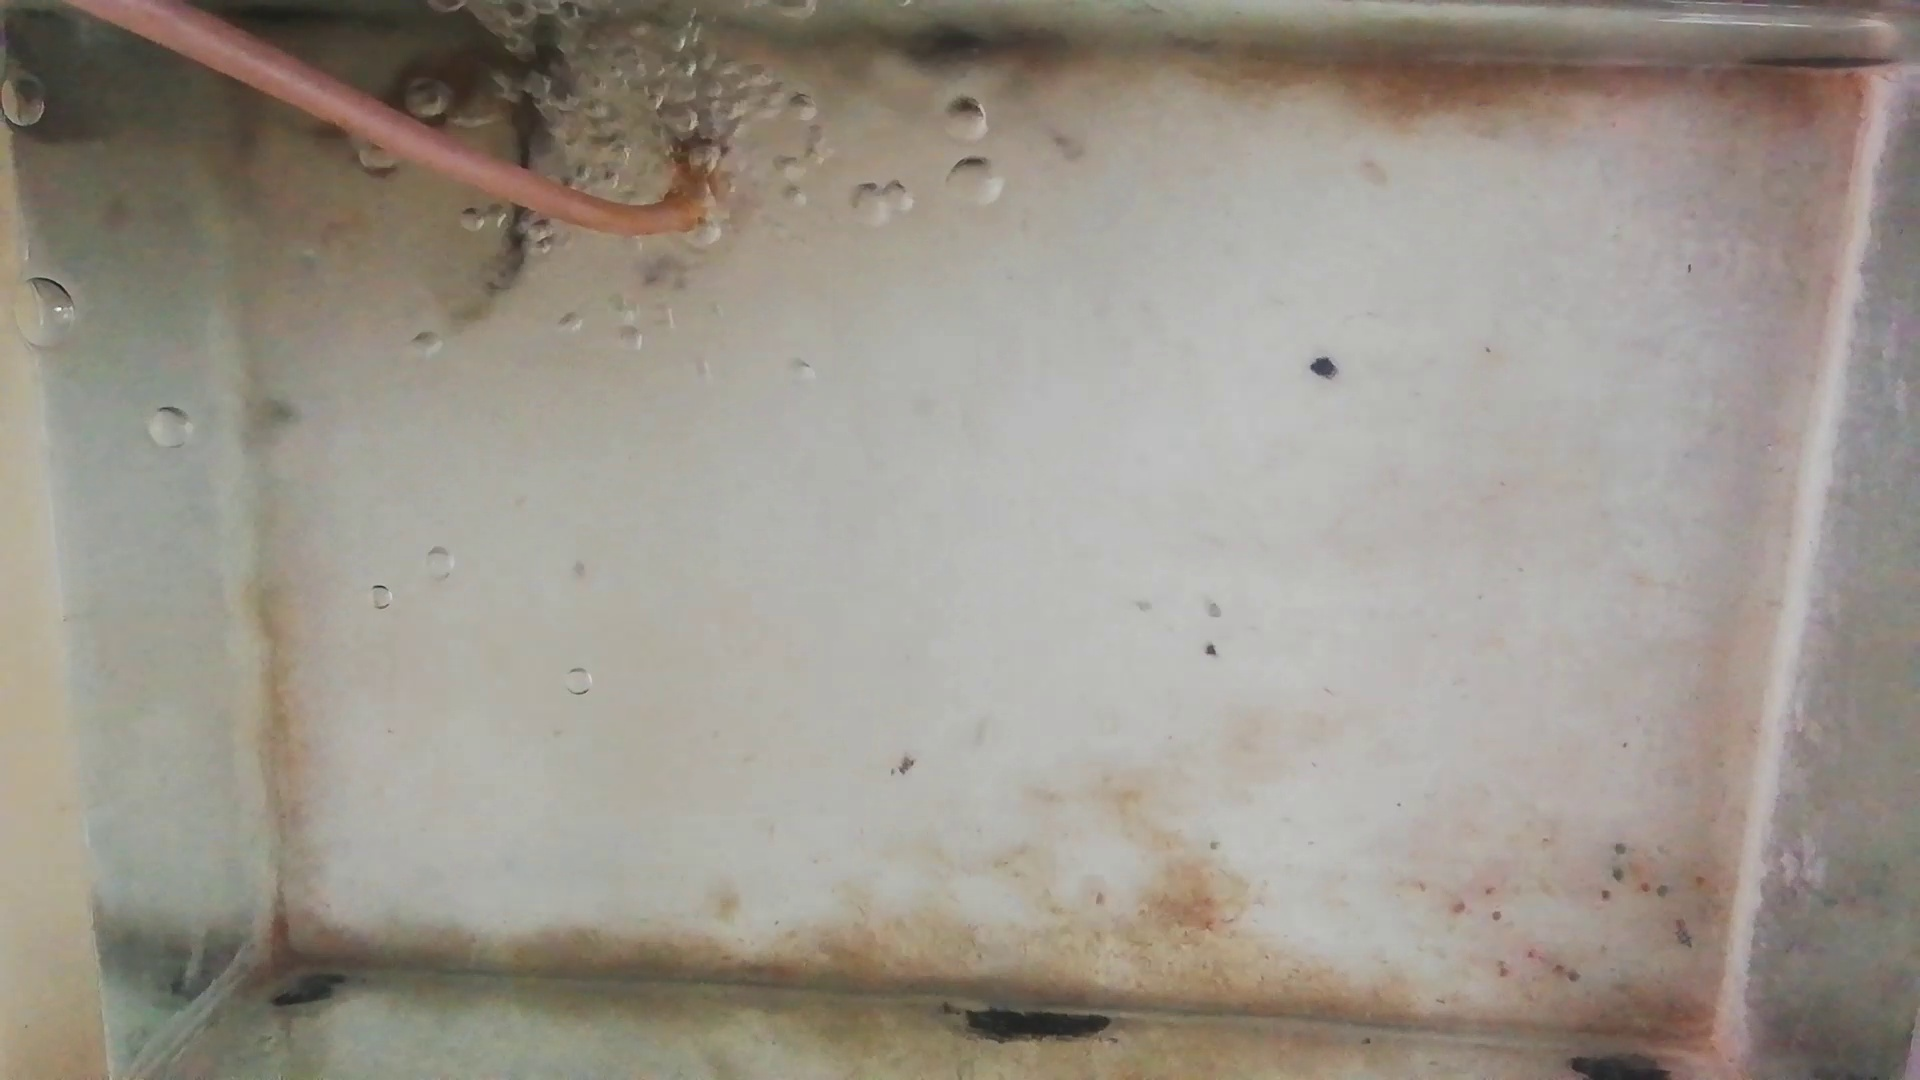fish: (492, 55, 554, 301), (386, 36, 487, 127)
